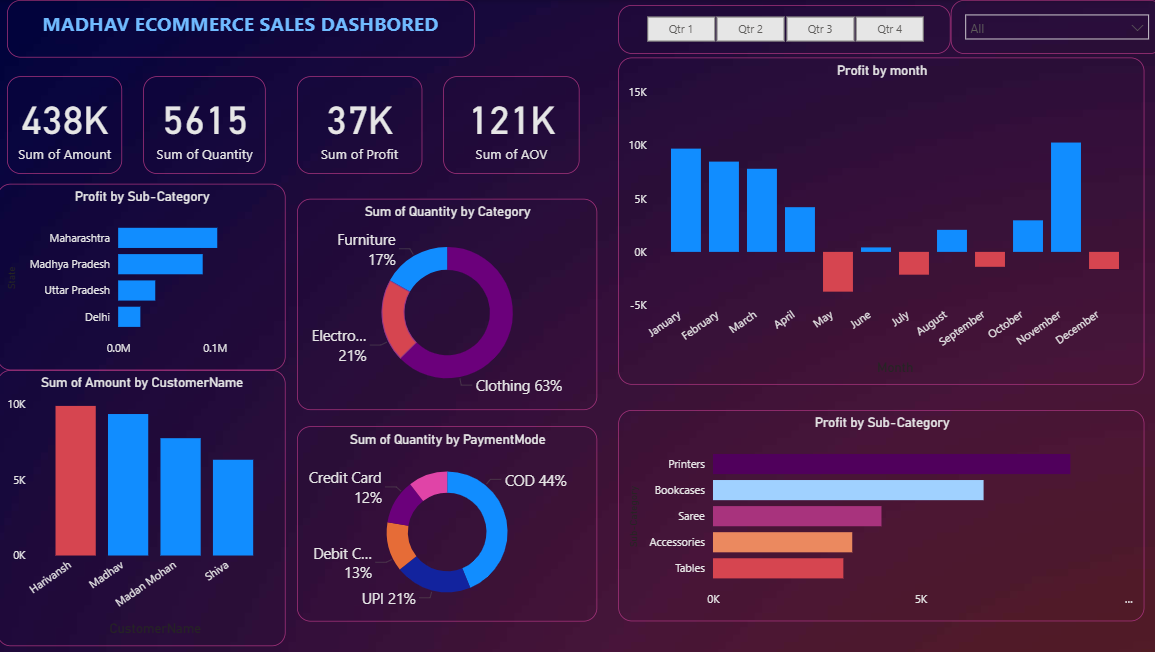

The dashboard page shown, as its layout file describes it:
{"tool":"powerbi","page":{"name":"Page 1","canvas":[1280,720],"ordinal":0},"visuals":[{"type":"textbox","box":[11,0,513.2,63.1],"z":0},{"type":"columnChart","title":"Profit by month","fields":{"Category":["Orders (4).Parsed Order Date.Variation.Date Hierarchy.Month"],"Y":["Details.Profit"]},"box":[682,63.1,577.7,359.5],"z":1000},{"type":"barChart","title":"Profit by Sub-Category","fields":{"Category":["Details.Sub-Category"],"Y":["Details.Profit"]},"box":[682,450.1,577.7,231.9],"z":2000},{"type":"donutChart","fields":{"Category":["Details.Category"],"Y":["Details.Quantity"]},"box":[329.3,218.2,329.3,231.9],"z":3000},{"type":"donutChart","fields":{"Category":["Details.PaymentMode","Details.Category"],"Y":["Details.Quantity"]},"box":[329.3,467.9,329.3,214.1],"z":4000},{"type":"card","fields":{"Values":["Details.Amount"]},"box":[11,83.7,126.2,107],"z":5000},{"type":"card","fields":{"Values":["Details.Quantity"]},"box":[160.5,83.7,134.5,107],"z":6000},{"type":"card","fields":{"Values":["Details.Profit"]},"box":[329.3,83.7,137.2,107],"z":7000},{"type":"card","fields":{"Values":["Details.AOV"]},"box":[489.9,83.7,149.6,107],"z":8000},{"type":"barChart","title":"Profit by Sub-Category","fields":{"Category":["Orders (4).State"],"Y":["Details.Amount"]},"box":[0,201.7,317,204.5],"z":9000},{"type":"columnChart","fields":{"Category":["Orders (4).CustomerName"],"Y":["Details.Amount"]},"box":[0,406.2,317,303.3],"z":10000},{"type":"slicer","fields":{"Values":["Orders (4).Parsed Order Date.Variation.Date Hierarchy.Quarter"]},"box":[682,5.5,365,53.5],"z":11000},{"type":"slicer","fields":{"Values":["Orders (4).State"]},"box":[1047,0,233.3,59],"z":12000}]}

Visuals, with their boxes in screenshot pixels (x1, y1, x2, y2), scaled from the page's 1280x720 canvas onto the 1155x652 screenshot:
textbox: crop(10, 0, 473, 57)
"Profit by month" columnChart: crop(615, 57, 1137, 383)
"Profit by Sub-Category" barChart: crop(615, 408, 1137, 618)
donutChart - Details.Category x Details.Quantity: crop(297, 198, 594, 408)
donutChart - Details.PaymentMode x Details.Category: crop(297, 424, 594, 618)
card - Details.Amount: crop(10, 76, 124, 173)
card - Details.Quantity: crop(145, 76, 266, 173)
card - Details.Profit: crop(297, 76, 421, 173)
card - Details.AOV: crop(442, 76, 577, 173)
"Profit by Sub-Category" barChart: crop(0, 183, 286, 368)
columnChart - Orders (4).CustomerName x Details.Amount: crop(0, 368, 286, 642)
slicer - Orders (4).Parsed Order Date.Variation.Date Hierarchy.Quarter: crop(615, 5, 945, 53)
slicer - Orders (4).State: crop(945, 0, 1154, 53)
